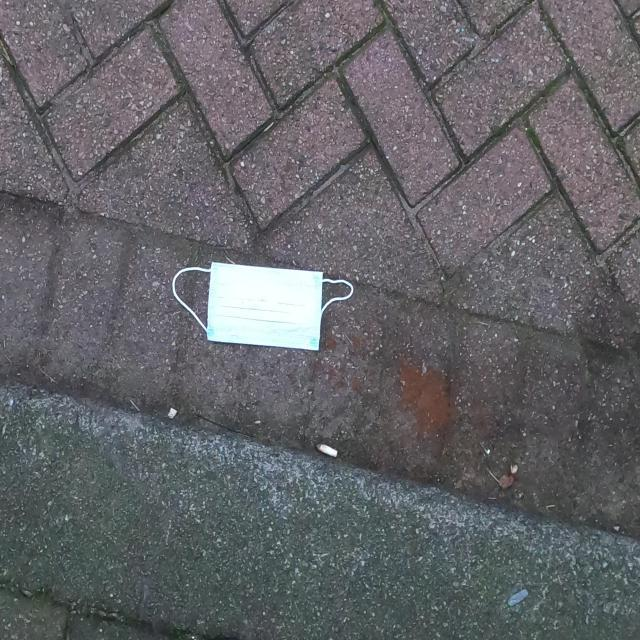Mask: (170, 258, 356, 354)
